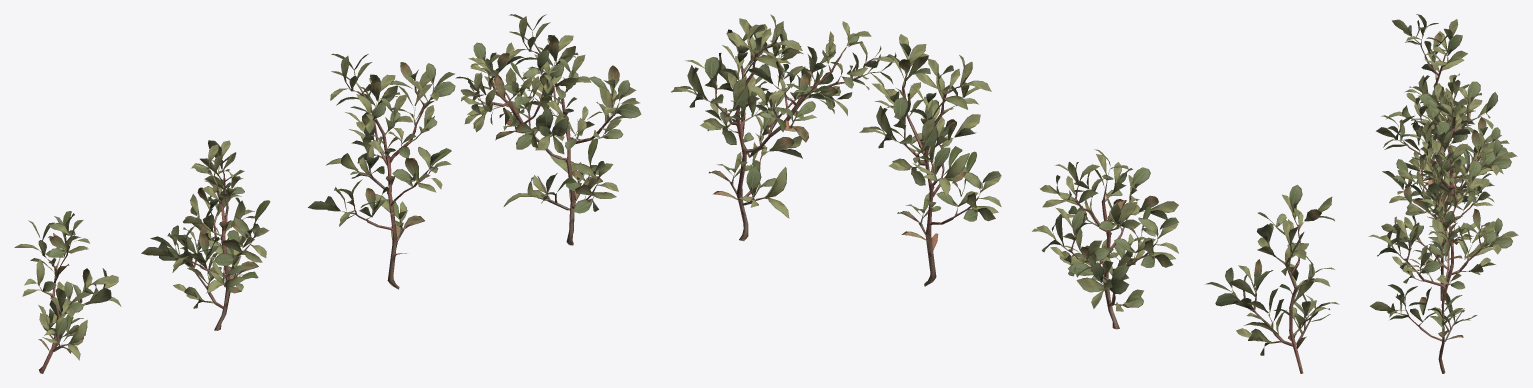
File: shrub_04.glb
3 renders of one model, left to right at view 1: azimuth 30°, elevation 25°; view 2: azimuth 150°, elevation 25°; view 3: azimuth 270°, elevation 25°, orthographic. The views are drawn at different scales.
Parts seen in each view (by area): view 1: shrub_04; view 2: shrub_04; view 3: shrub_04.
Boxes of the visible parts, box(x1,y1,x2,y2) form: shrub_04: box(14, 14, 641, 373); shrub_04: box(671, 14, 1339, 373); shrub_04: box(1368, 14, 1518, 373).
Bounding box in the file's own units: 0.5837 × 0.2185 × 0.1461.
1 material, 1 textured.
